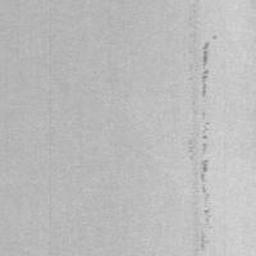Inclusion: (198, 109, 215, 252), (200, 35, 218, 99)
